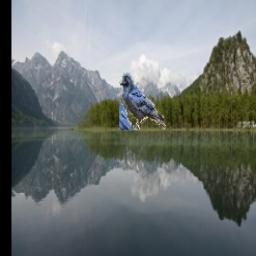Crow: (120, 74, 167, 131)
